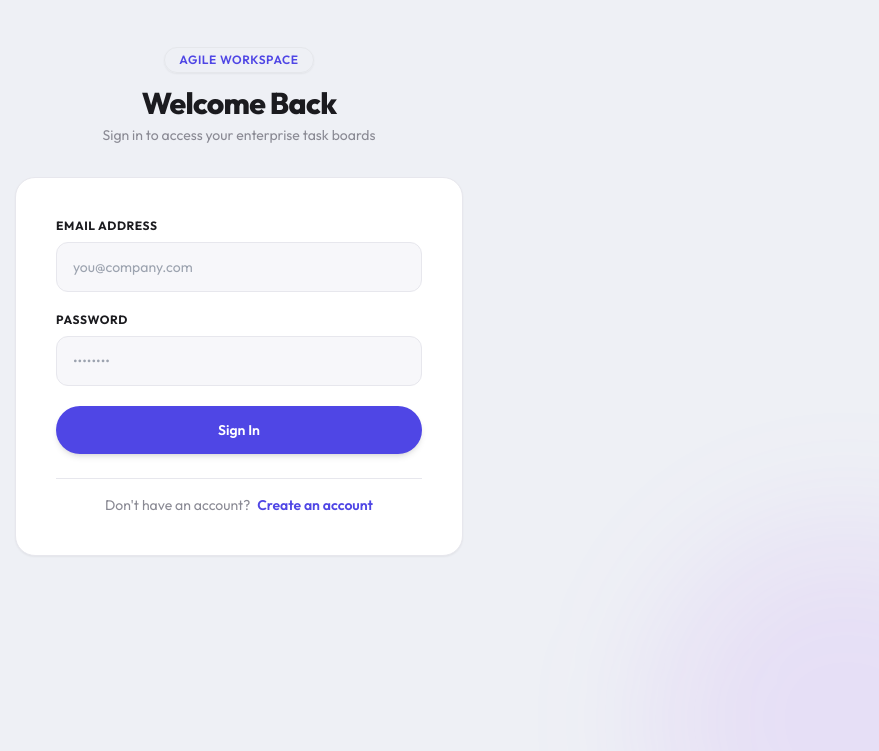
Scenario: LoginPage Component Tests › displays error banner when login fails
Type "wrong@example.com" into the field labelled "Email Address" at [239, 267], box [56,242,422,292]
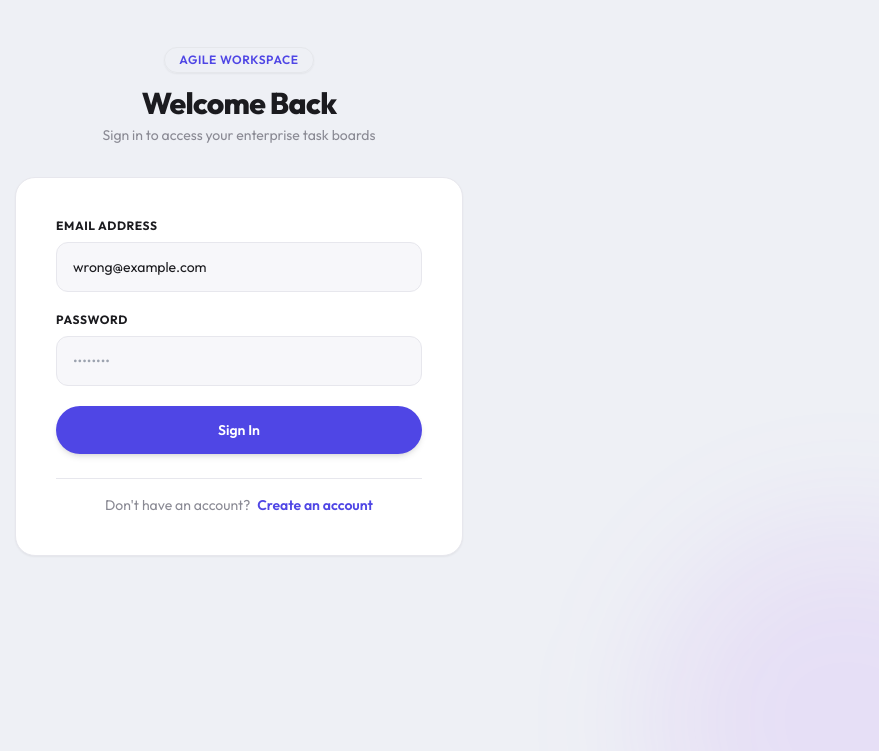
Type "wrongpass" into the password field labelled "Password" at [239, 361], box [56,336,422,386]
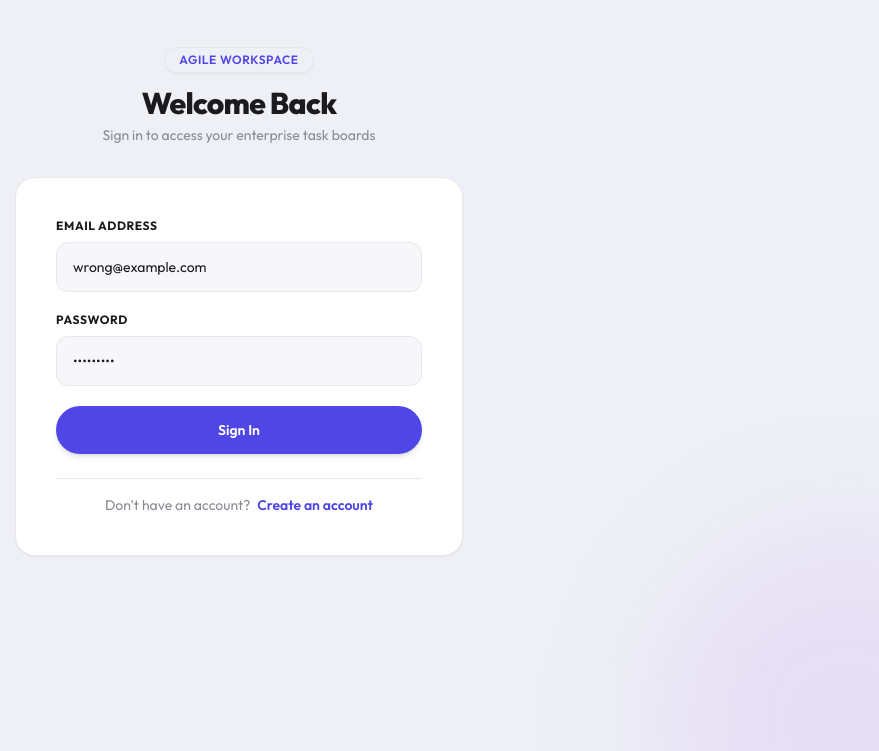
Click the button "Sign In" at [239, 430], box [56,406,422,454]
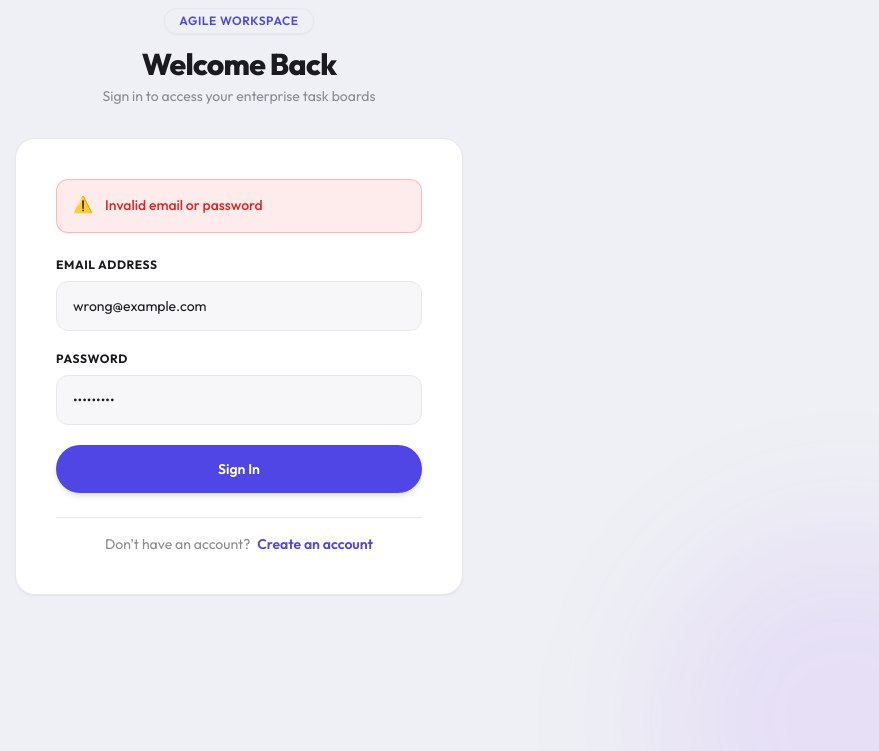
Check: the text "Invalid email or password" is shown, box [105,196,263,216]
